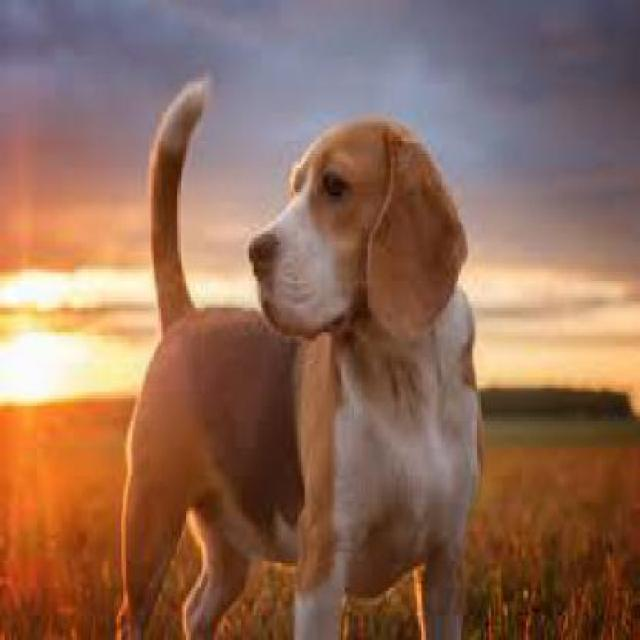Dog: (117, 69, 486, 637)
